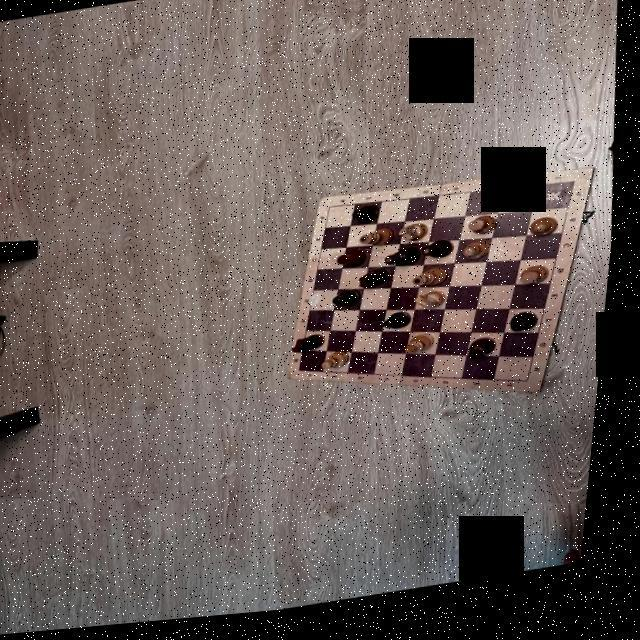chess-table-corners: (574, 190, 582, 195), (330, 211, 336, 215), (532, 389, 536, 394), (304, 375, 307, 378)
